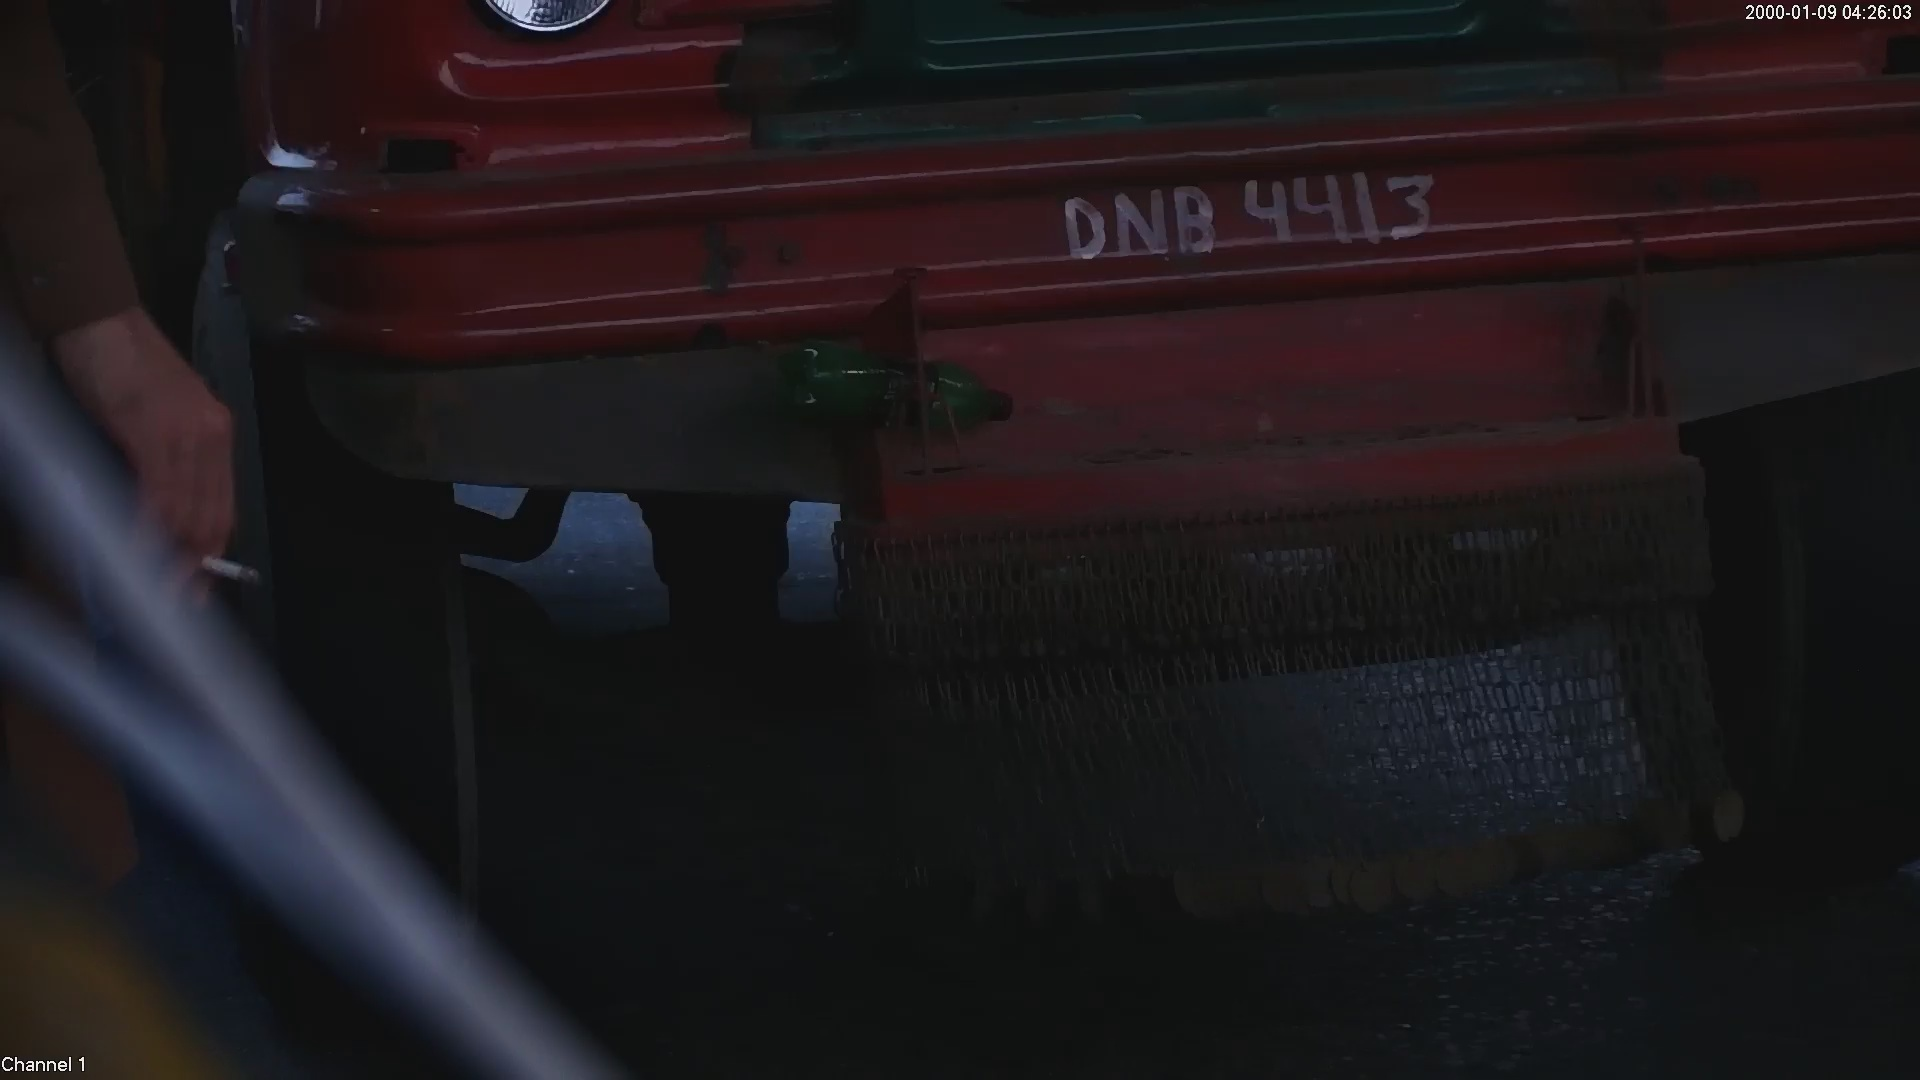Number_Plate: (1034, 146, 1456, 270)
Undefined: (852, 536, 1758, 903)
